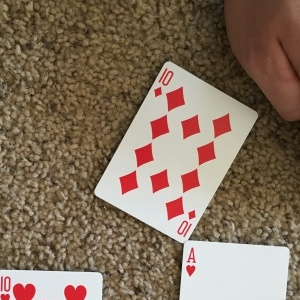card: (96, 60, 259, 240)
